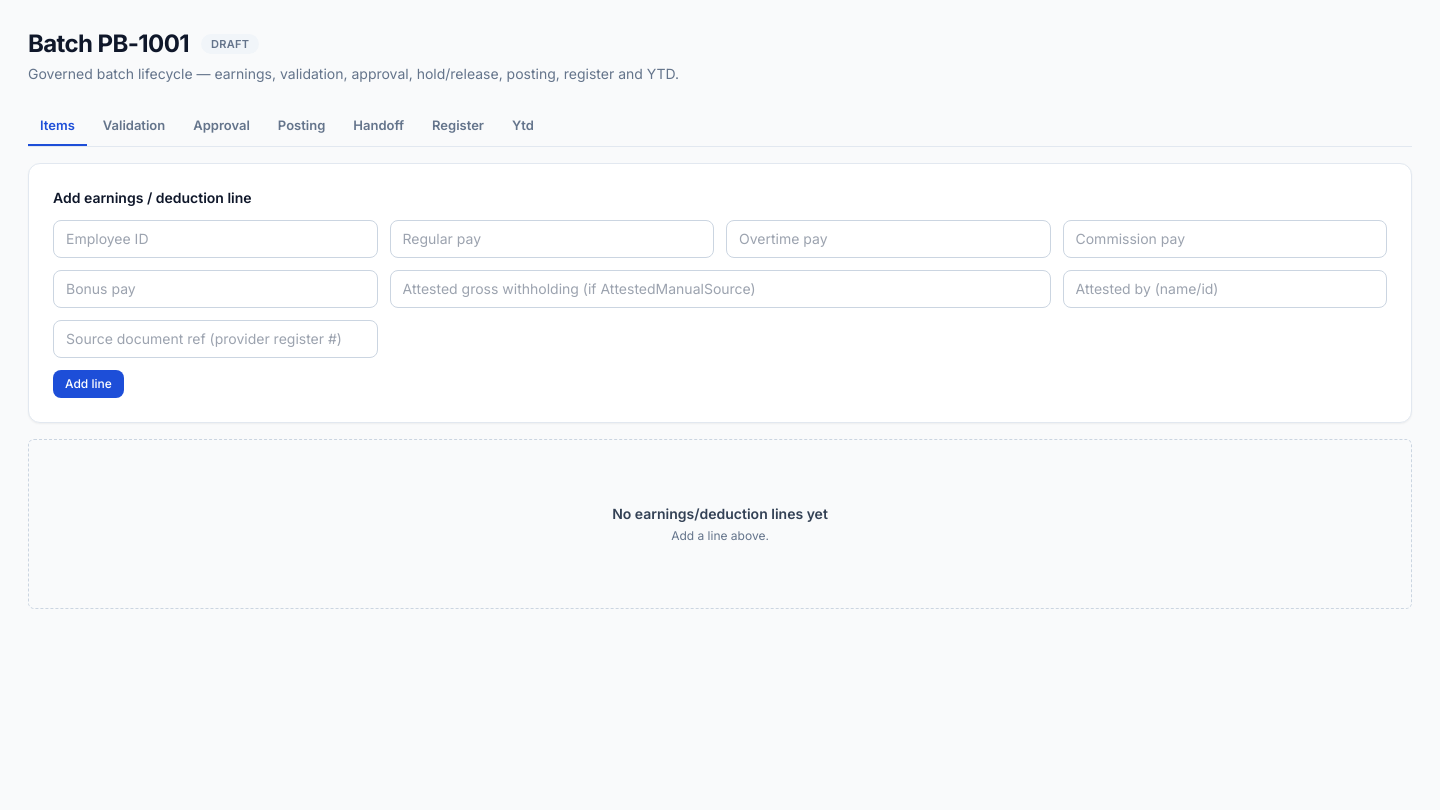
Test: PayrollBatchWorkbench › loads the payroll register
The width and height of the screenshot is (1440, 810).
Click the button with test id "payroll-batch-tab-register" at (458, 127), box [420,108,496,146]
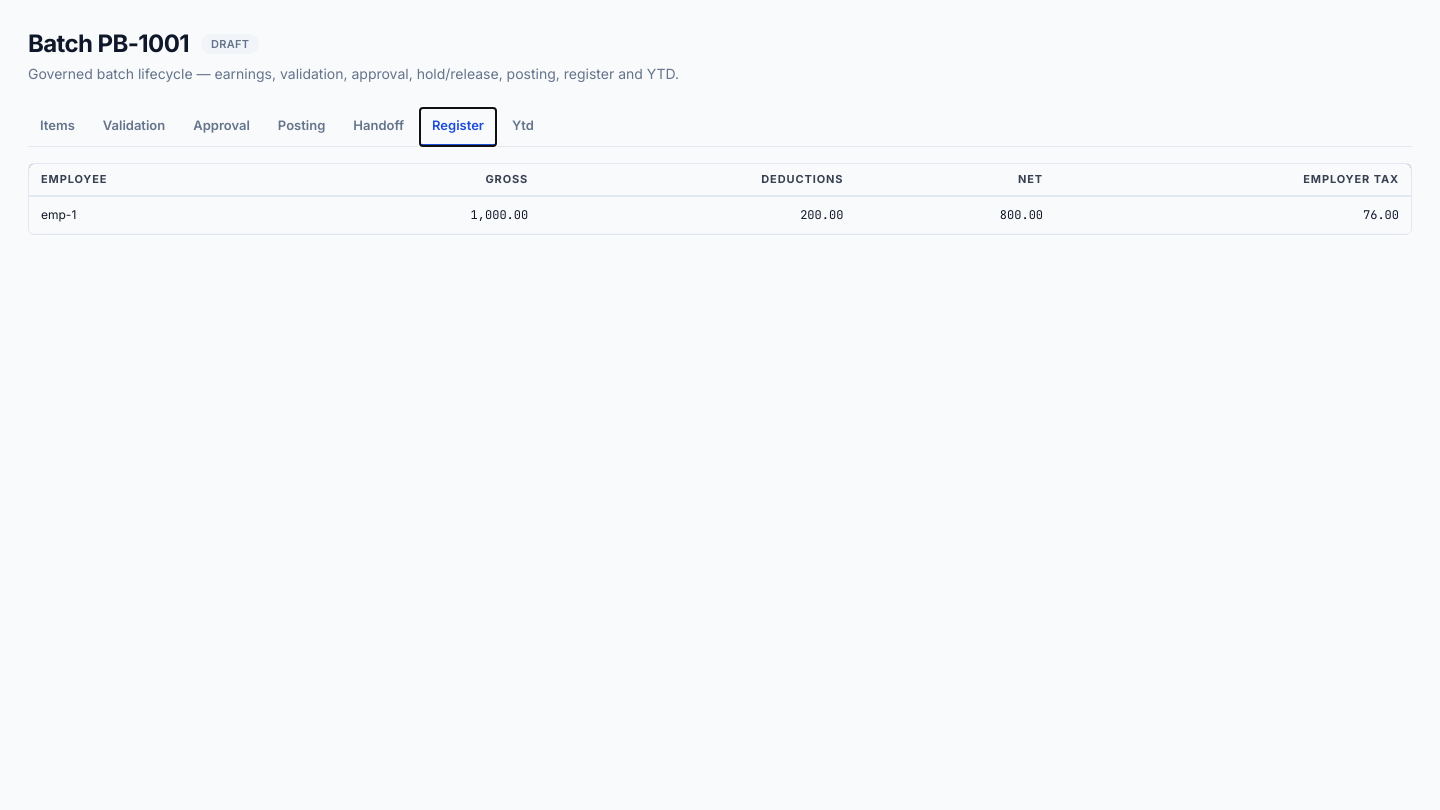
Expected: the table with test id "payroll-register-table" is shown, [29,164,1411,234]
